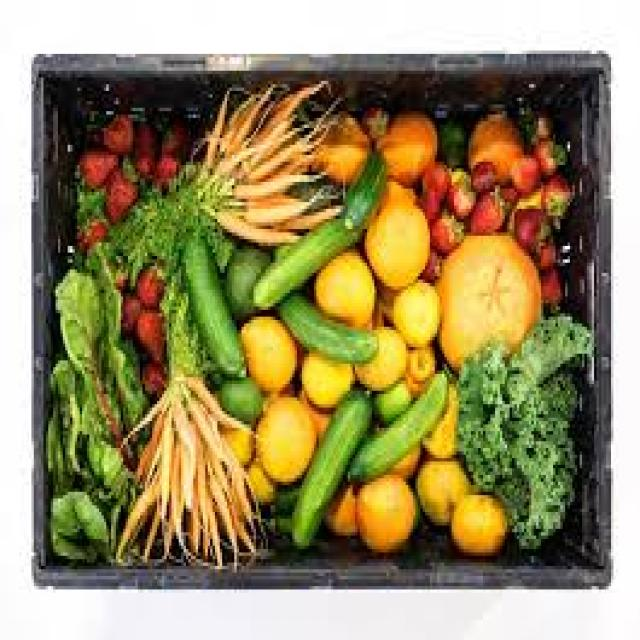organic waste: (454, 310, 589, 549), (55, 246, 145, 455), (437, 226, 539, 370), (179, 381, 263, 549), (43, 350, 128, 516), (290, 384, 369, 546), (68, 192, 202, 286), (101, 158, 206, 273), (343, 367, 447, 482), (249, 212, 357, 307), (215, 114, 333, 196), (111, 384, 164, 559), (179, 226, 244, 367), (193, 408, 256, 552), (210, 185, 338, 246), (276, 290, 374, 357), (252, 394, 316, 485), (362, 195, 425, 283), (191, 414, 222, 573), (147, 377, 174, 556), (352, 472, 416, 546), (162, 260, 205, 370), (239, 313, 297, 394), (464, 108, 522, 185), (164, 374, 188, 559), (46, 485, 106, 559), (184, 367, 254, 428), (314, 250, 369, 324), (222, 182, 321, 222), (376, 111, 434, 179), (447, 488, 507, 552), (225, 243, 273, 320), (341, 142, 384, 226), (413, 455, 466, 522), (312, 114, 364, 182), (256, 85, 331, 132), (352, 323, 406, 384), (172, 381, 198, 505), (220, 212, 306, 249), (391, 280, 440, 340), (300, 350, 352, 404), (421, 380, 456, 454), (273, 199, 345, 232), (200, 88, 227, 172), (229, 91, 278, 135), (99, 155, 133, 212), (261, 485, 299, 536), (220, 371, 258, 421), (68, 145, 118, 182), (510, 202, 548, 249), (468, 178, 504, 226), (372, 374, 408, 421), (321, 478, 355, 526), (437, 115, 469, 165), (241, 455, 273, 505), (99, 104, 130, 155), (507, 144, 541, 188), (133, 104, 162, 155), (532, 131, 568, 172), (136, 303, 160, 364), (536, 256, 563, 310), (444, 165, 471, 219), (374, 175, 413, 212), (220, 94, 246, 148), (539, 168, 570, 212), (425, 205, 461, 242), (133, 253, 159, 303), (225, 421, 251, 468), (302, 391, 328, 438), (386, 441, 421, 475), (531, 222, 558, 266), (157, 108, 186, 148), (403, 344, 432, 381), (75, 209, 104, 246), (357, 101, 384, 138), (118, 283, 140, 327), (418, 155, 444, 192), (372, 276, 394, 317), (150, 148, 174, 185), (77, 101, 99, 138), (72, 185, 104, 209), (142, 357, 160, 398), (524, 108, 548, 138), (133, 145, 154, 178), (420, 246, 440, 276), (413, 185, 435, 212), (471, 155, 495, 178), (512, 182, 539, 202)
